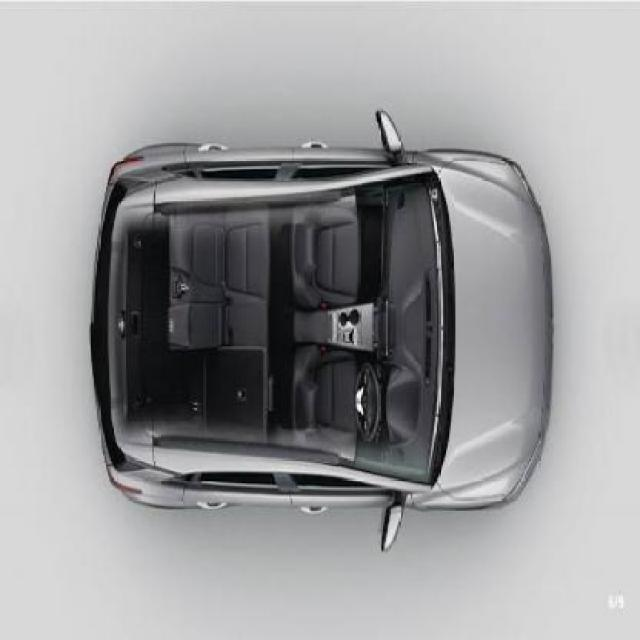vehicle: (84, 97, 562, 566)
